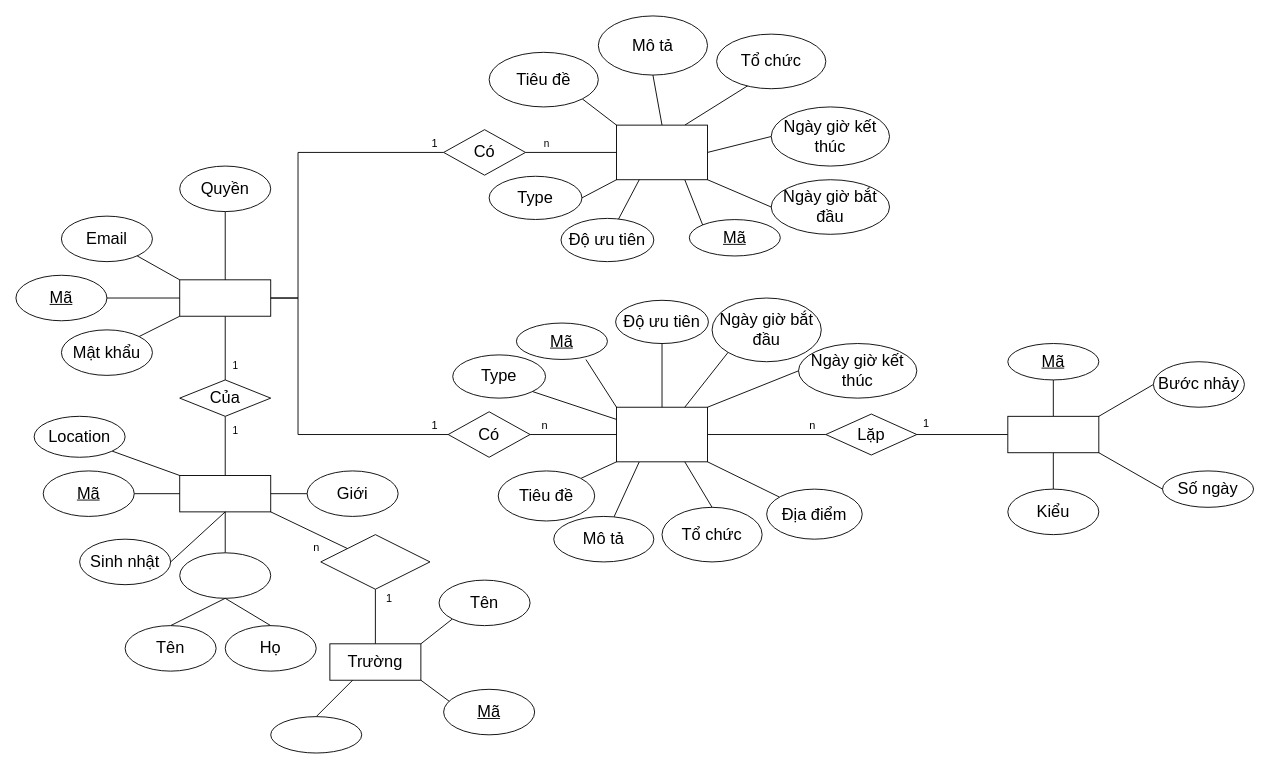
Some shapes in this 1269 by 769 pixel diagram are drawn without their labels. The shapes that lost their labels are listed below. From the top down, each one's box as (x1, y1, x2, y2) in pixels, then its label:
(616, 124, 708, 180): Kế hoạch dài hạn
(179, 279, 271, 316): Tài khoản
(616, 406, 708, 462): Kế hoạch ngắn hạn
(1007, 415, 1099, 453): Lặp lại
(179, 475, 271, 512): Thông tin
(179, 552, 271, 598): Họ tên
(320, 534, 430, 589): thuộc
(270, 716, 362, 753): Địa chỉ
